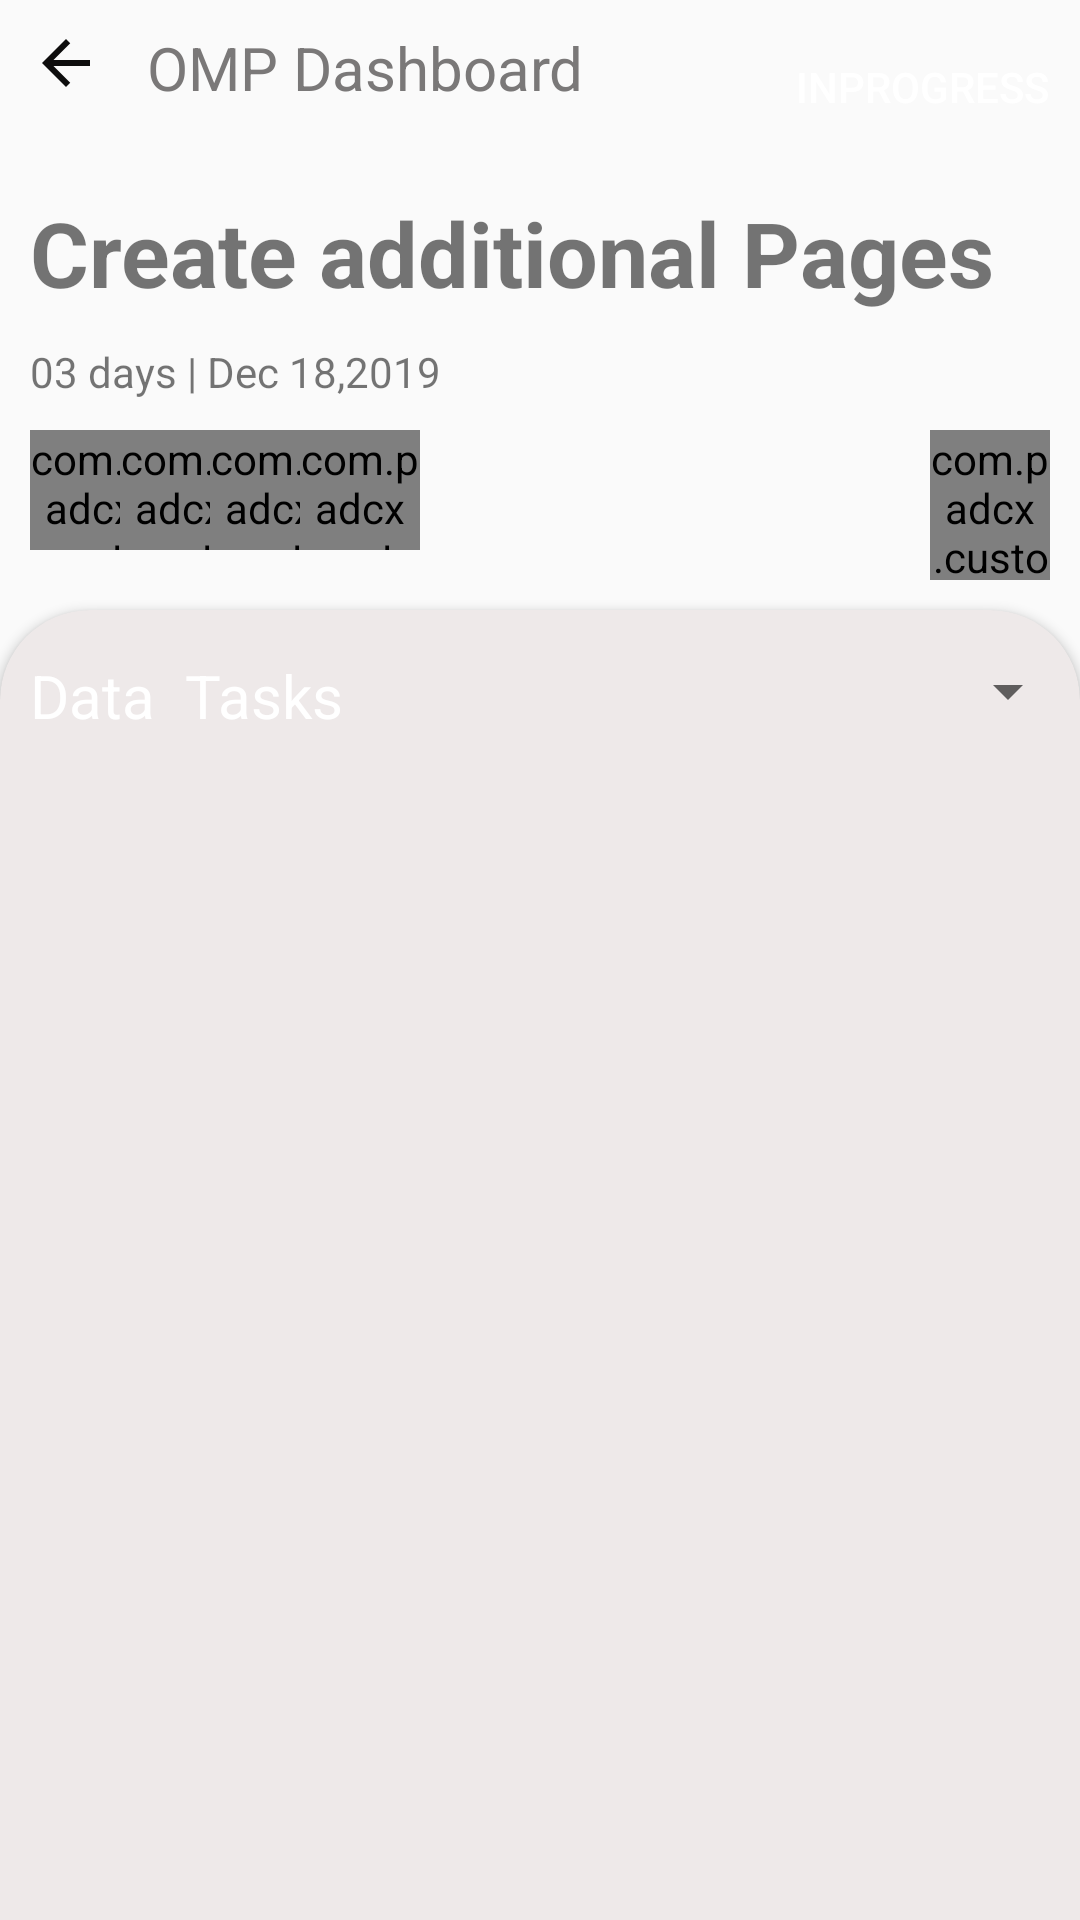

Where to tap for icons on this 1080×1920 app screen, as (x=x, y=y):
arrow back: (x=66, y=63)
